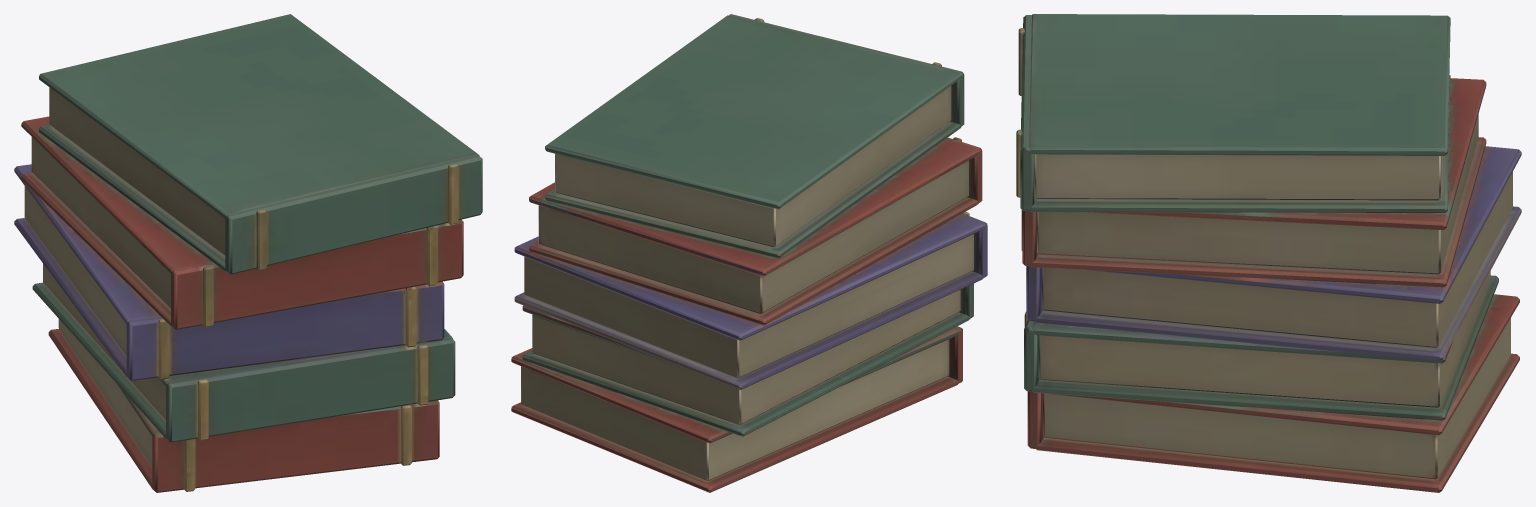
Rendered from book_pile.glb.
The picture shows the model from 3 angles, left to right: view 1: azimuth 30°, elevation 25°; view 2: azimuth 150°, elevation 25°; view 3: azimuth 270°, elevation 25°; orthographic projection. The views are drawn at different scales.
Visible parts, largest first — view 1: book_pile; view 2: book_pile; view 3: book_pile.
Part boxes in pixels (left/top/right/bottom): book_pile: left=14, top=14, right=482, bottom=492; book_pile: left=511, top=14, right=987, bottom=492; book_pile: left=1016, top=14, right=1521, bottom=492.
Size of the model in its own units: 0.46 by 0.366 by 0.5167.
1 material, 1 textured.
